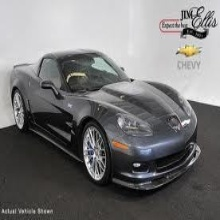no damage: (9, 50, 204, 192)
